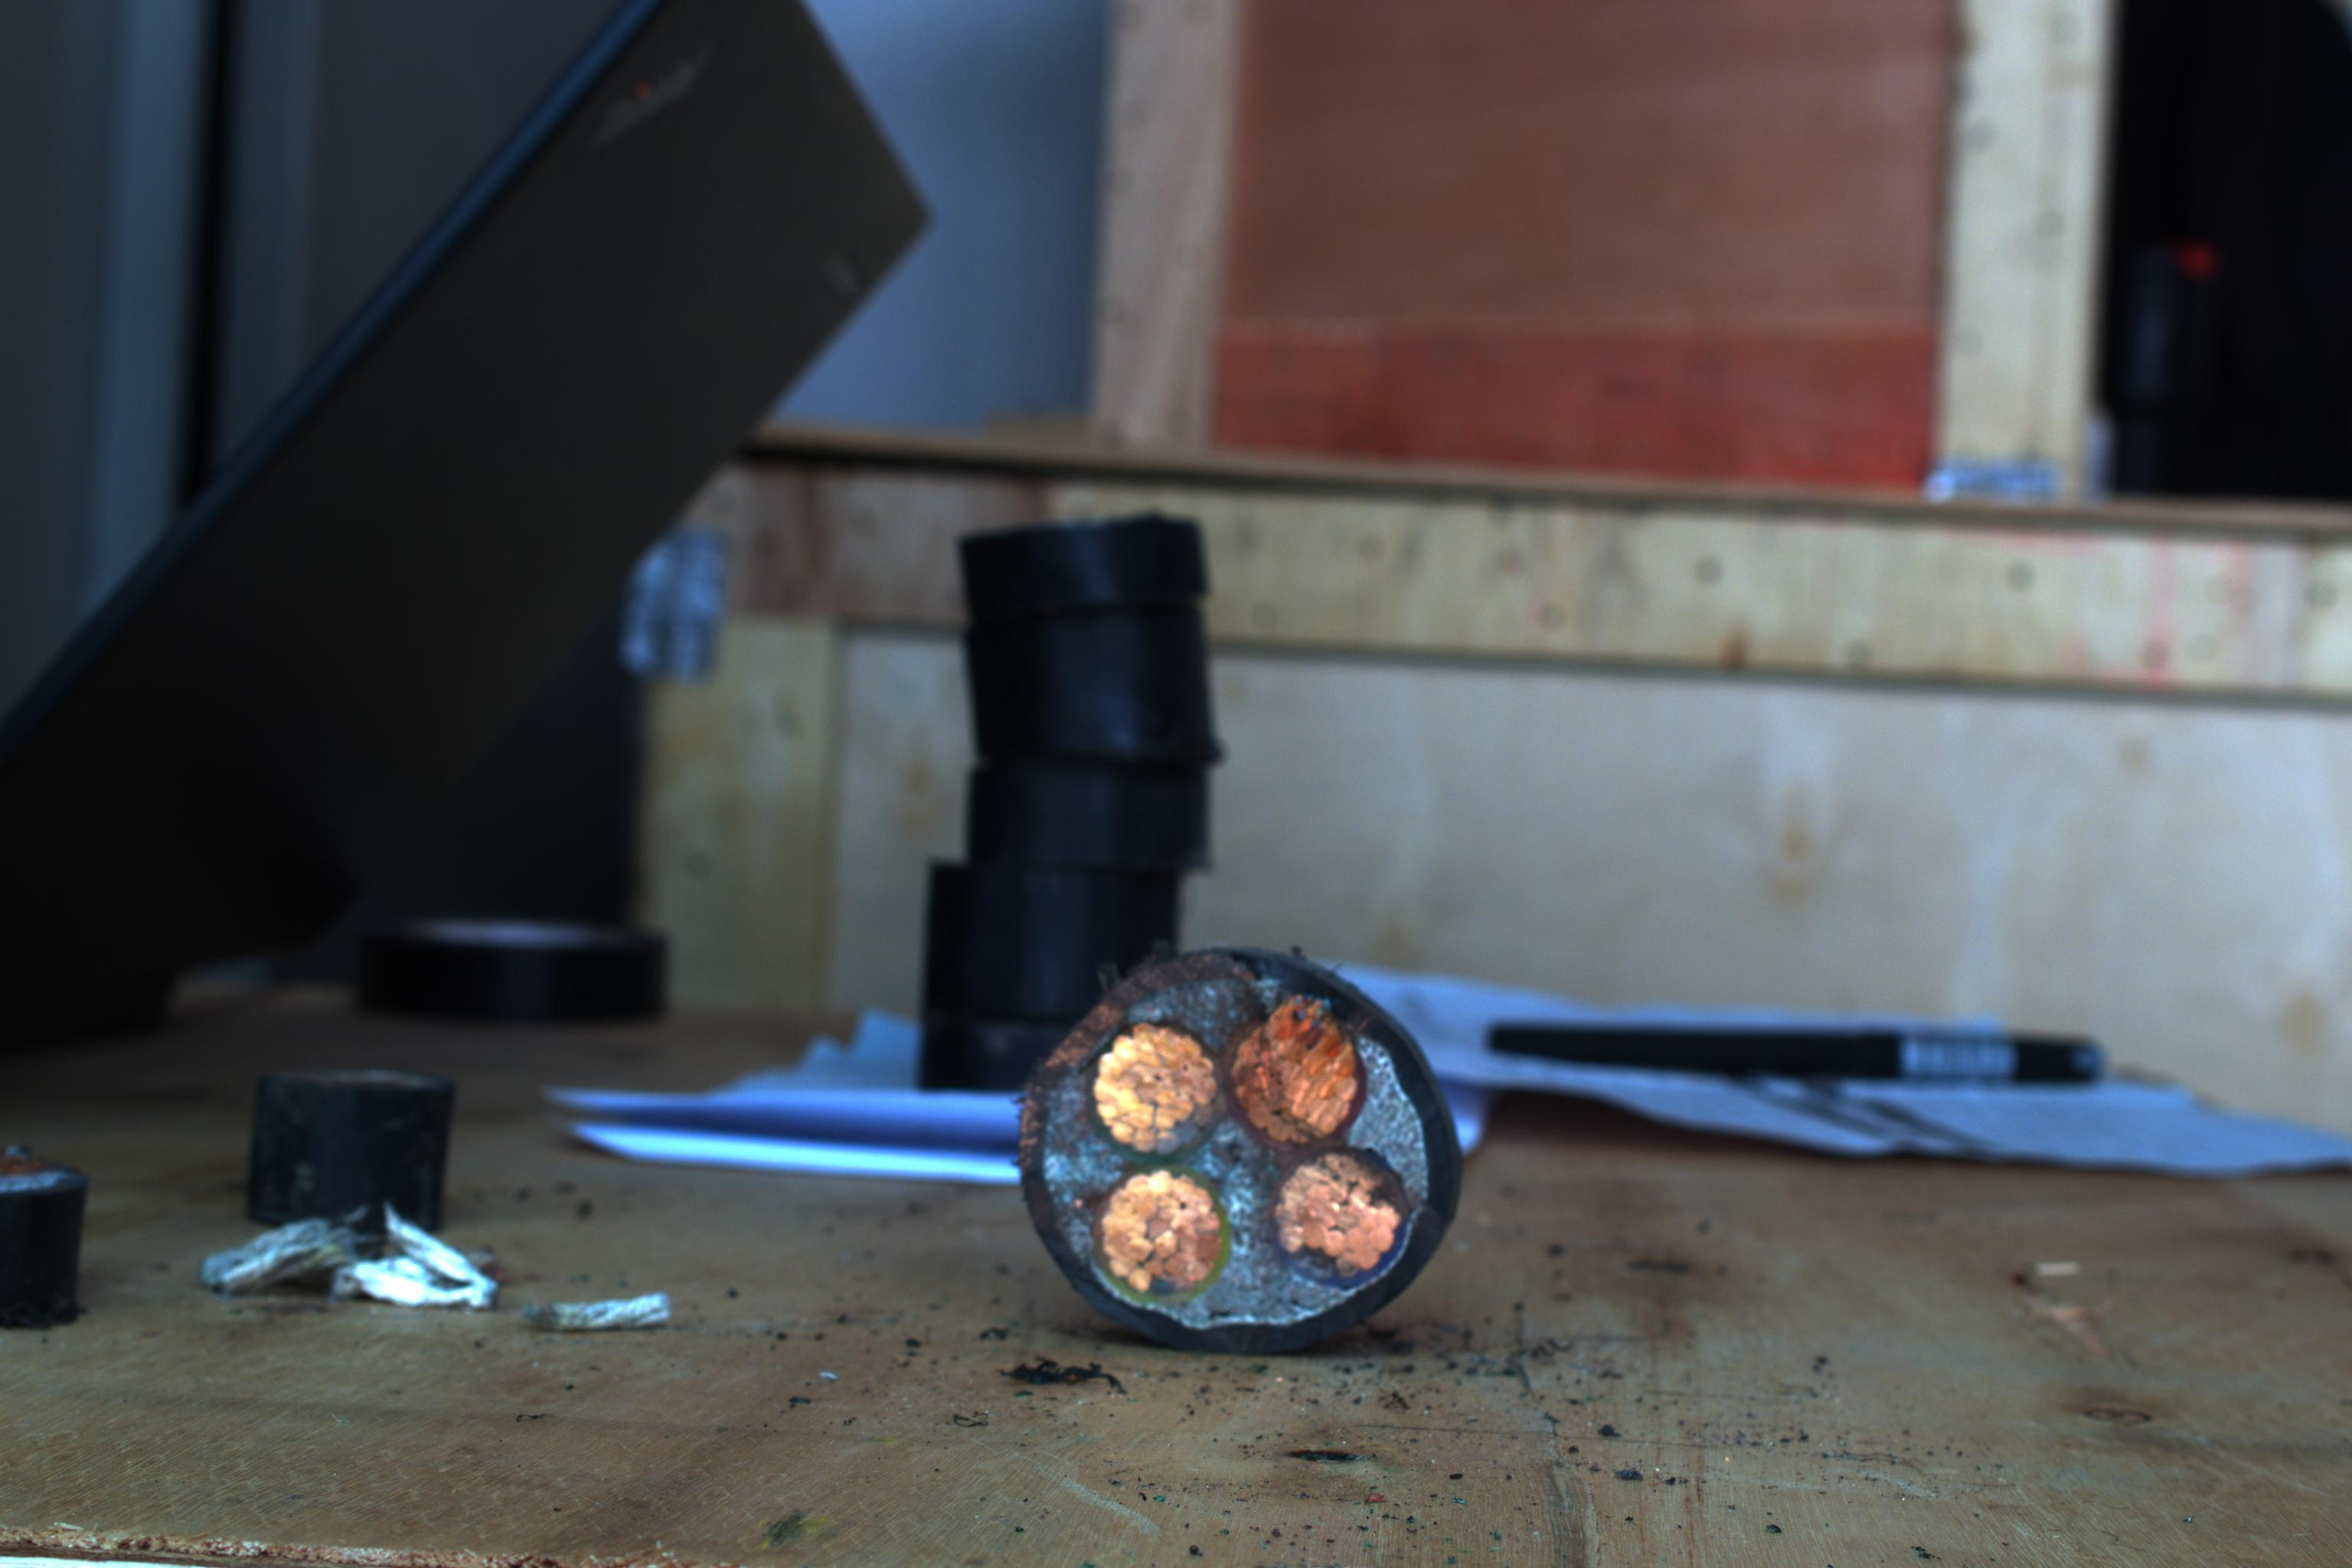YJV_0.6_1kV_4x120: (1011, 924, 1473, 1360)
